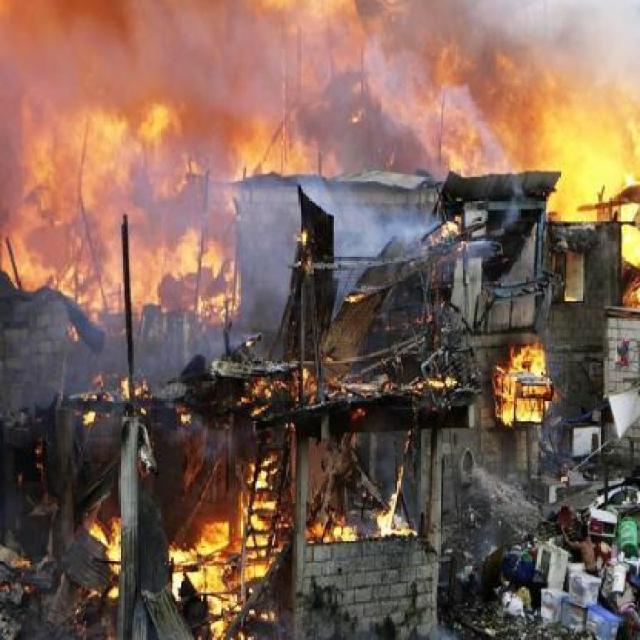Fire: (2, 81, 326, 317), (156, 474, 287, 634), (540, 75, 638, 244), (489, 340, 554, 428)
